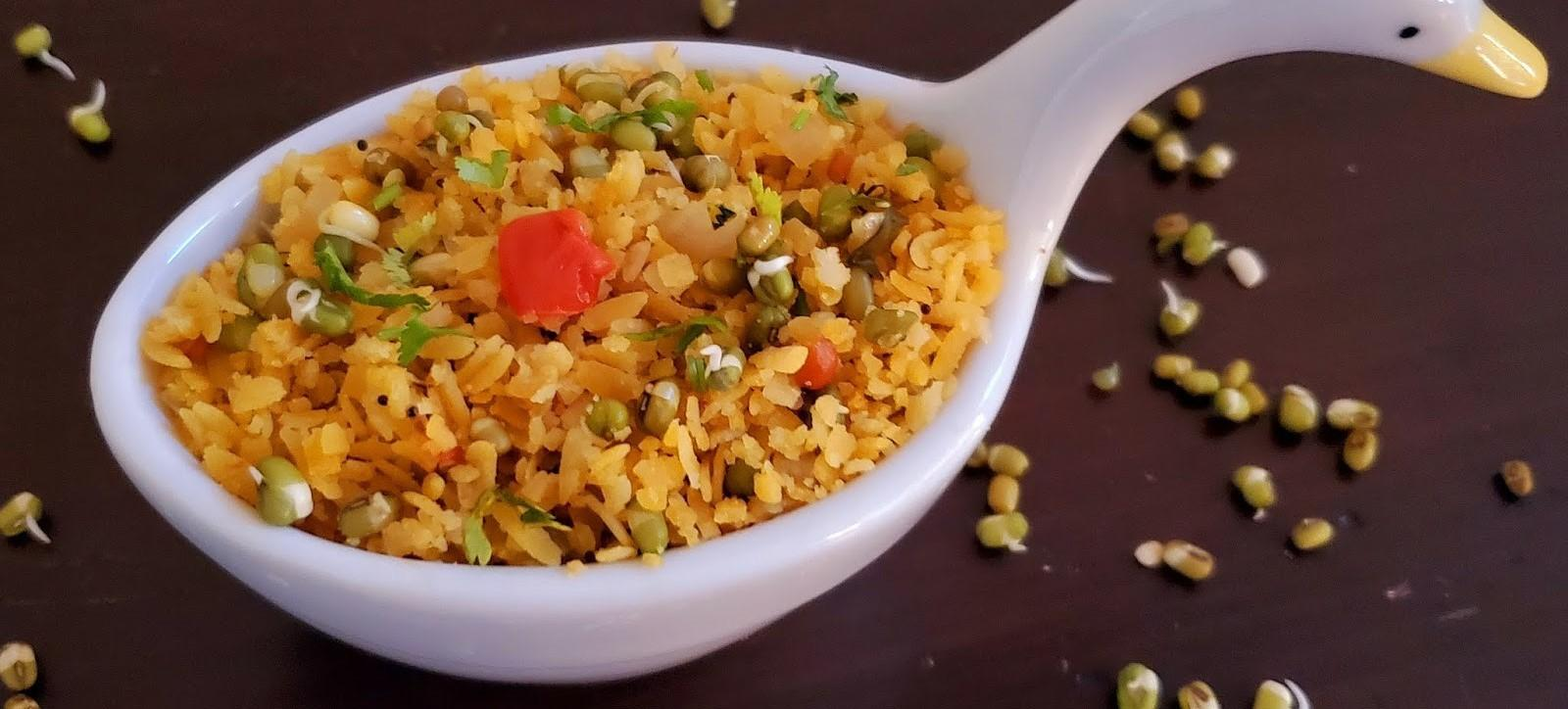Poha: (144, 45, 1002, 576)
